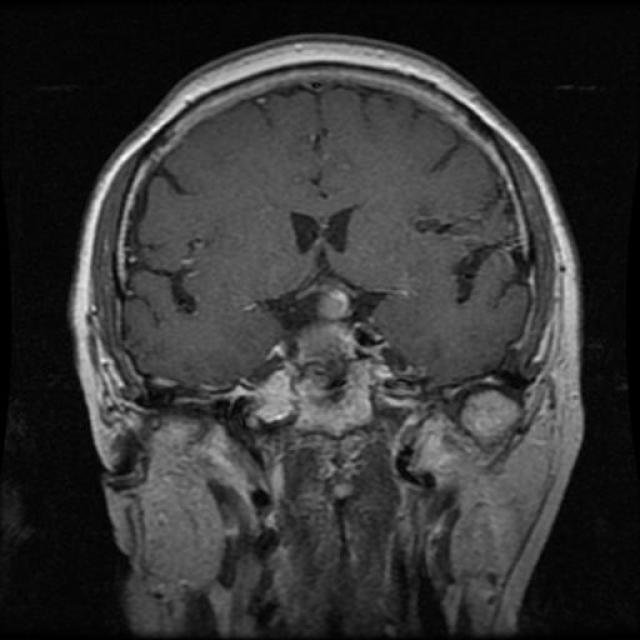pituitary: (275, 278, 377, 366)
